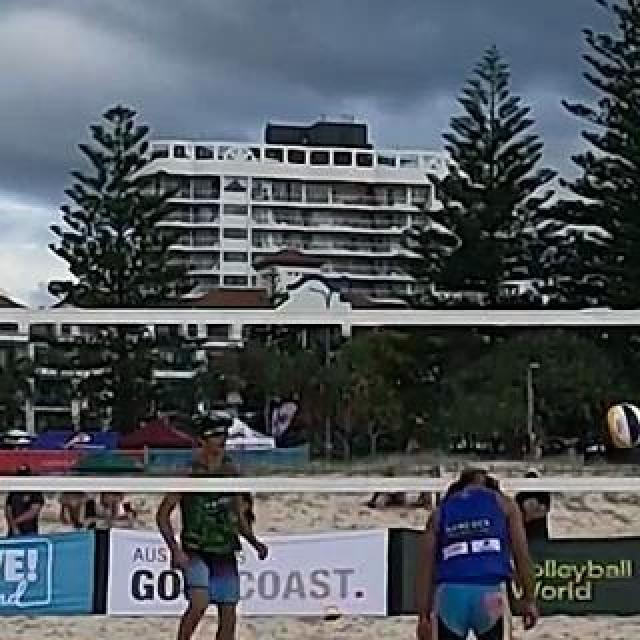volleyball: (606, 402, 640, 448), (323, 605, 343, 623)
